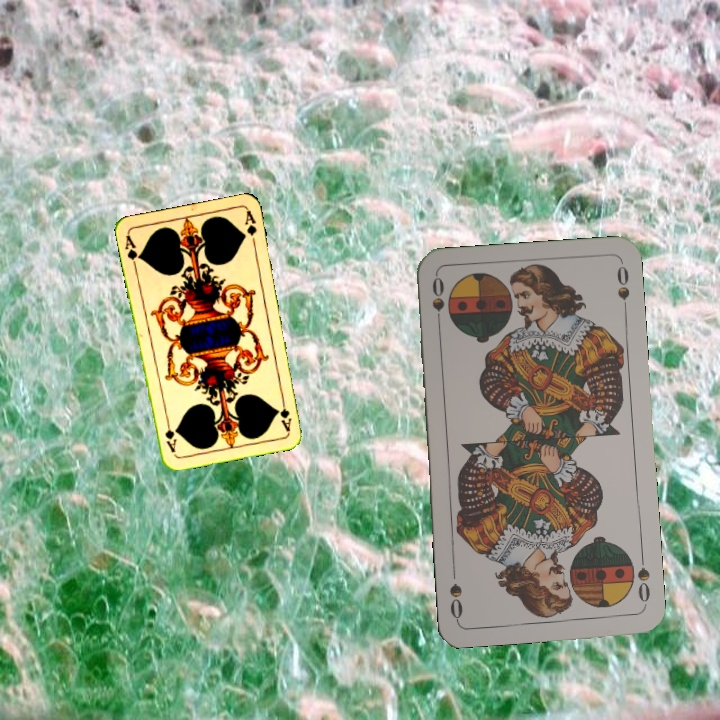GA: (121, 231, 143, 271), (275, 393, 294, 434)
SO: (428, 273, 447, 332), (634, 550, 652, 609)
